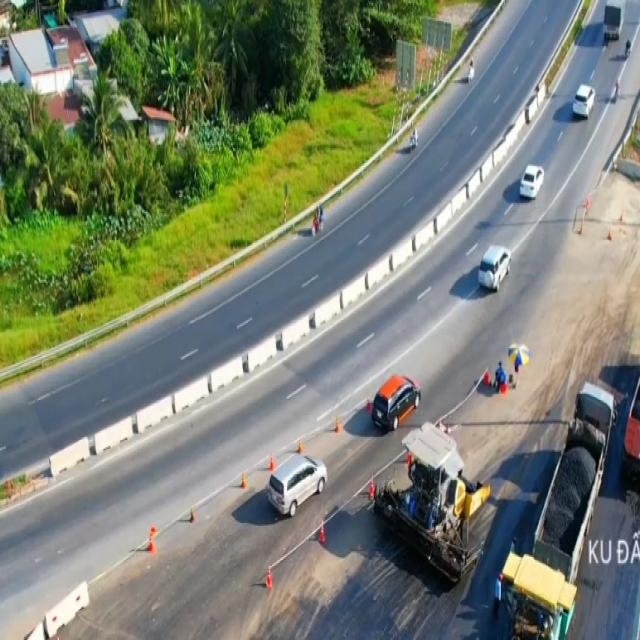car: (268, 454, 326, 515), (371, 376, 421, 432), (476, 242, 512, 294), (570, 82, 595, 122), (520, 162, 546, 200)
truck: (602, 0, 624, 51)
